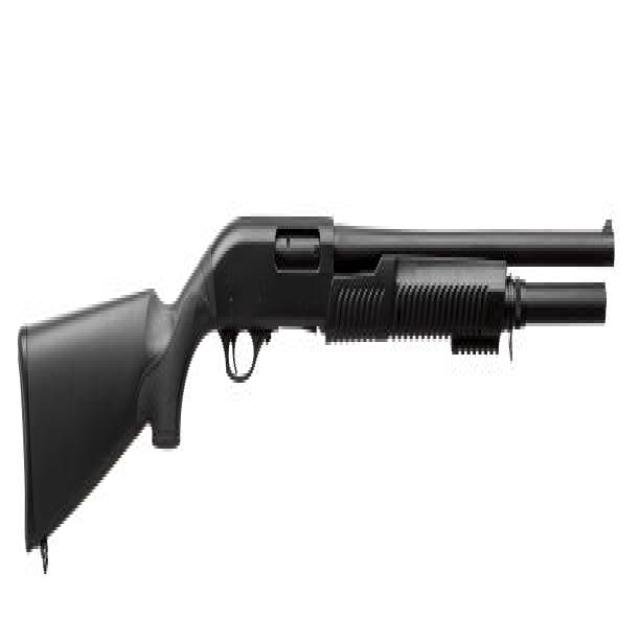rifle: (14, 185, 619, 580)
